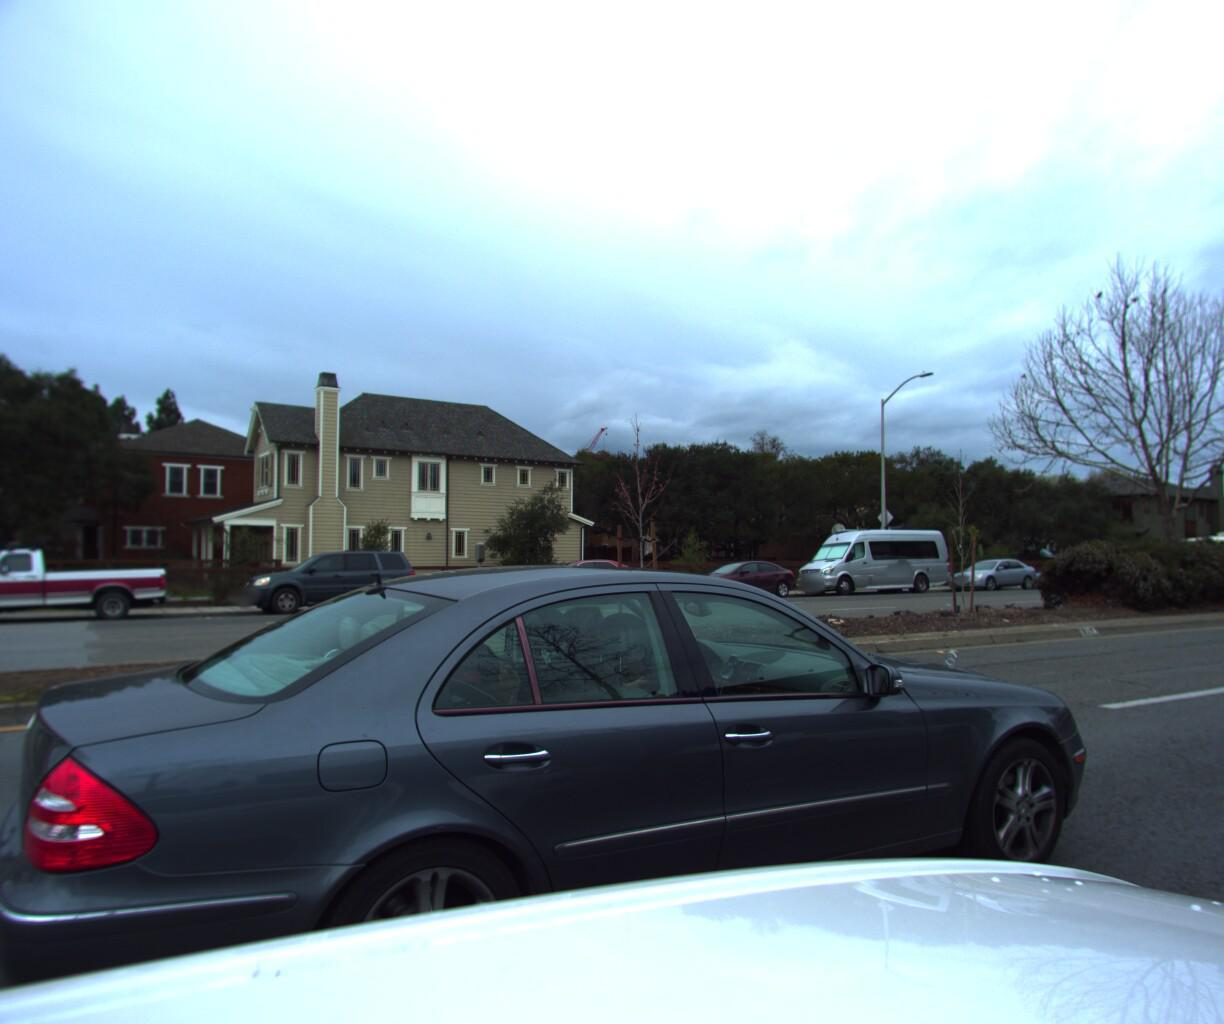car: (18, 555, 1123, 1024), (0, 534, 177, 631), (230, 543, 431, 618), (779, 517, 958, 594), (492, 554, 657, 606), (675, 555, 809, 599), (938, 553, 1041, 589)
other_vehicle: (1158, 522, 1224, 584)
